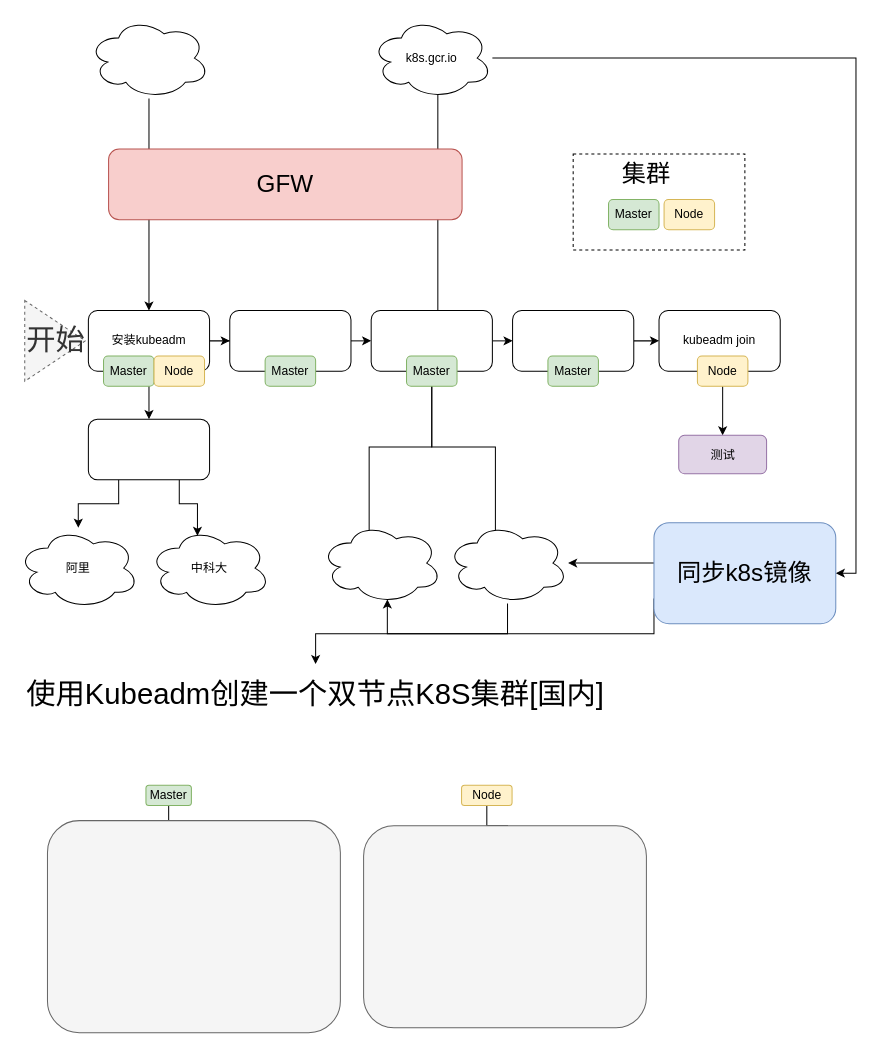
The diagram is 882 pixels wide and 1050 high, and some of its shapes have lost their labels. Each missing label, with the box of its shape:
Docker Hub: (446, 522, 568, 603)
kube-apiserver kube-controller-manager kube-proxy kube-scheduler etcd pause 网络插件: (46, 820, 340, 1033)
kubeadm init: (229, 310, 351, 371)
packages.cloud.google.com: (87, 17, 210, 98)
pause kube-proxy coredns 网络插件: (363, 825, 646, 1028)
下载k8s镜像: (370, 310, 492, 371)
国内源: (320, 522, 442, 603)
安装网络插件: (512, 310, 634, 371)
添加国内的源: (87, 418, 210, 480)
